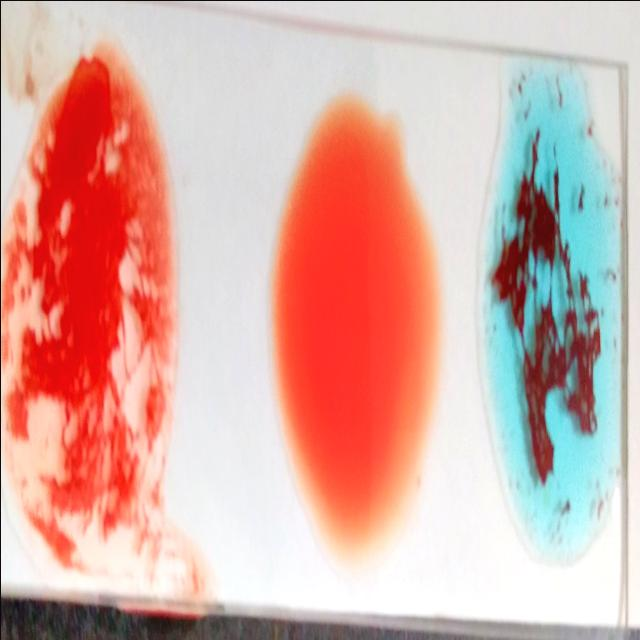A: (480, 71, 622, 534)
D: (3, 56, 175, 566)
